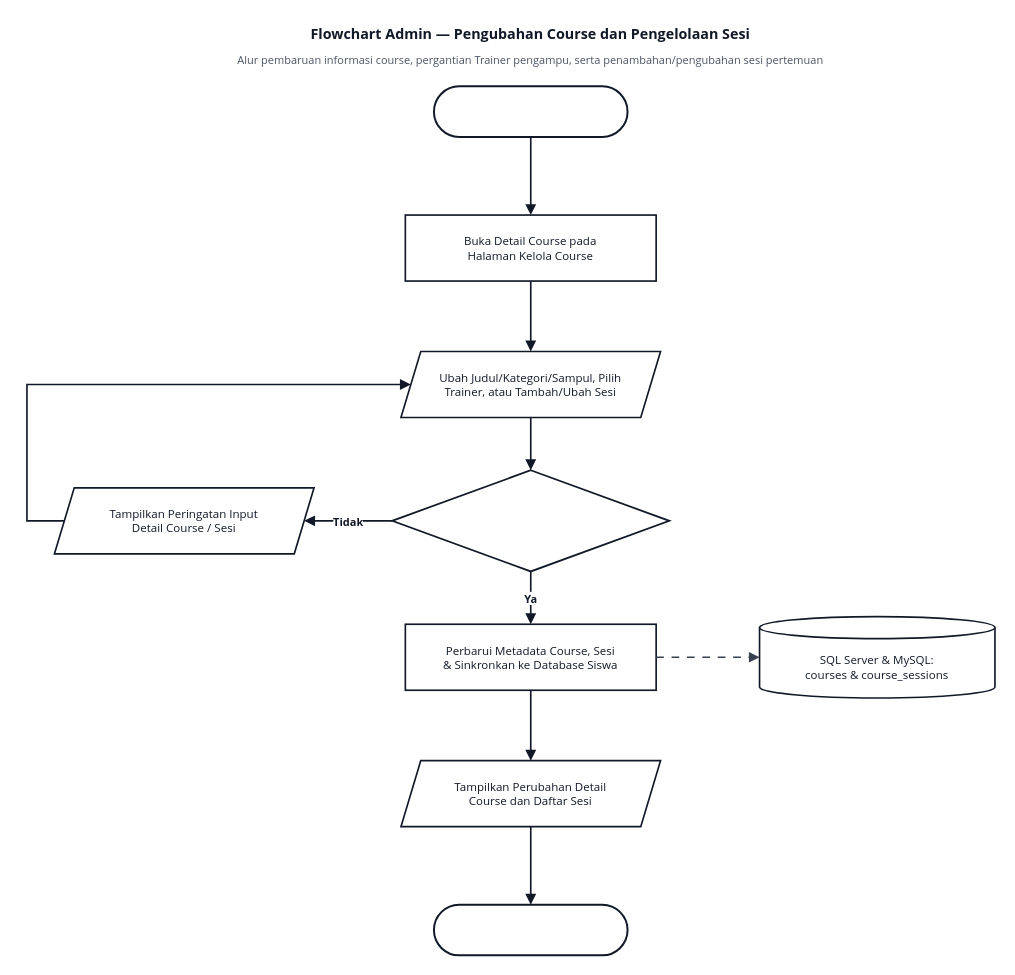
Image size: 1015x975. Some labels were removed from this diagram. The shapes that lost their labels are listed below. From the top down, each one's box as (x1, y1, x2, y2) in pixels, then its label:
(432, 85, 628, 137): Mulai
(391, 469, 670, 572): Data Perubahan & Urutan Sesi Valid?
(432, 903, 628, 956): Selesai
